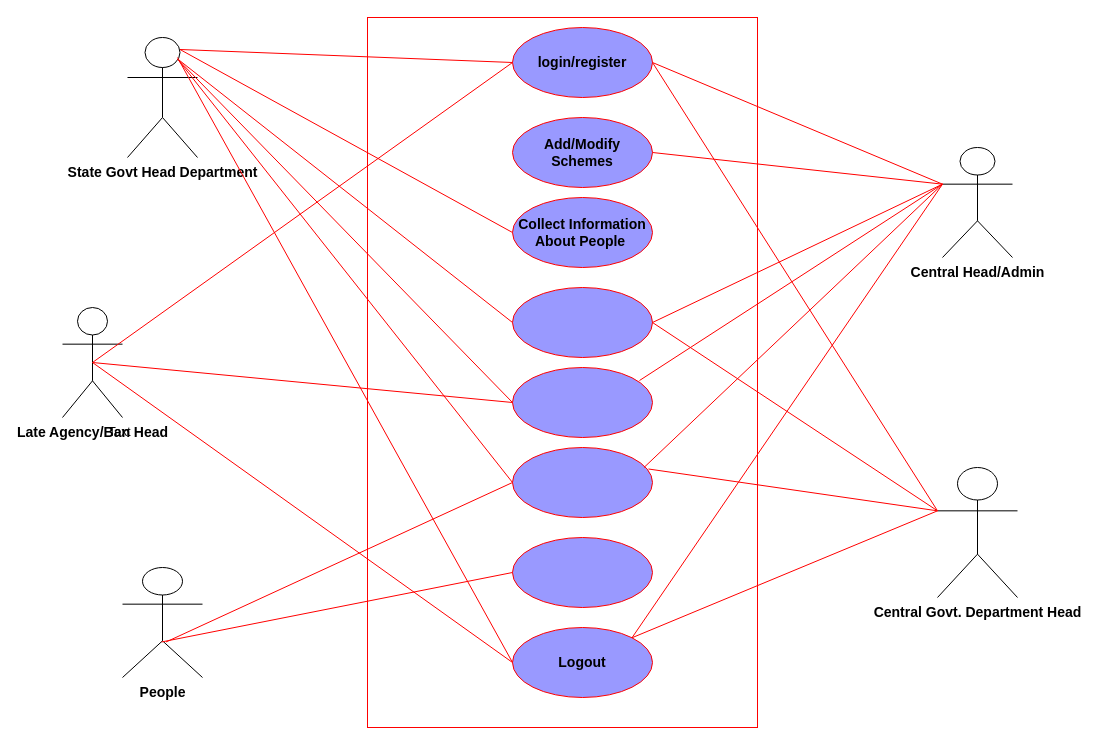
Some shapes in this 1099 by 745 pixel diagram are drawn without their labels. The centre of each missing label's shape, as x and y in pixels:
"Donate Funds" goes at (582,572).
"Fund Transfer" goes at (582,402).
"Reviews" goes at (582,482).
"Send/Receive Emails" goes at (582,322).
